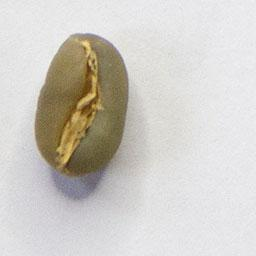peaberry: (30, 28, 134, 183)
